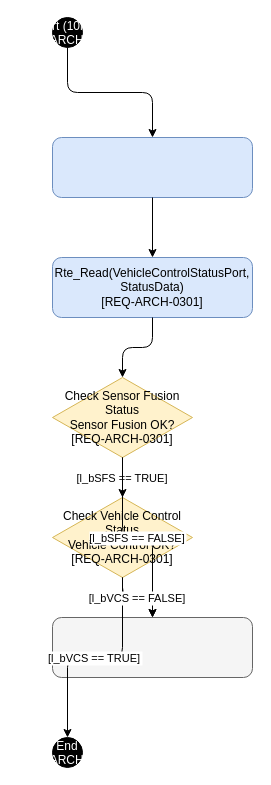
This 271x785 diagram has some shape labels left out. The shapes that lost their labels are listed below. From the top down, each one's centre as x and y in pixels, then its label:
point 152,167: Rte_Read(SensorFusionStatusPort, StatusData) [REQ-ARCH-0301]
point 152,647: Trigger Emergency Stop l_bEmergencyStop = TRUE [REQ-ARCH-0301]
